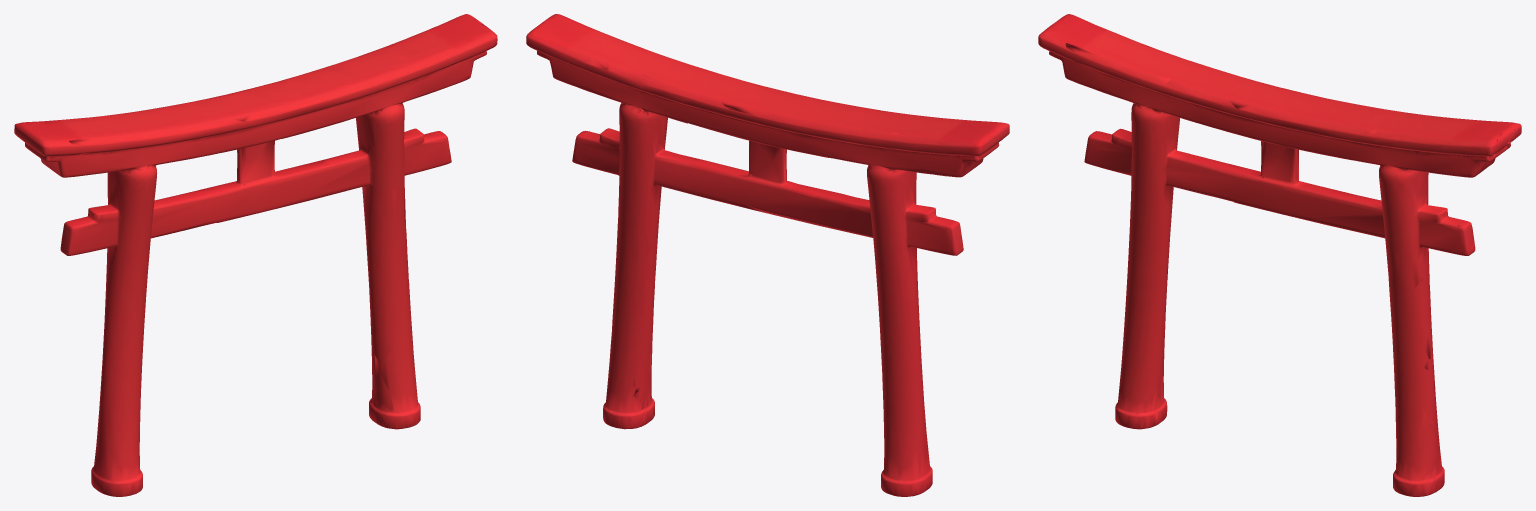
The model's file is torii_gate.glb.
3 renders of one model, left to right at view 1: azimuth 30°, elevation 25°; view 2: azimuth 150°, elevation 25°; view 3: azimuth 330°, elevation 25°, orthographic.
Size of the model in its own units: 1.91 by 1.5 by 0.2325.
Materials: 1 (1 with a texture image).
